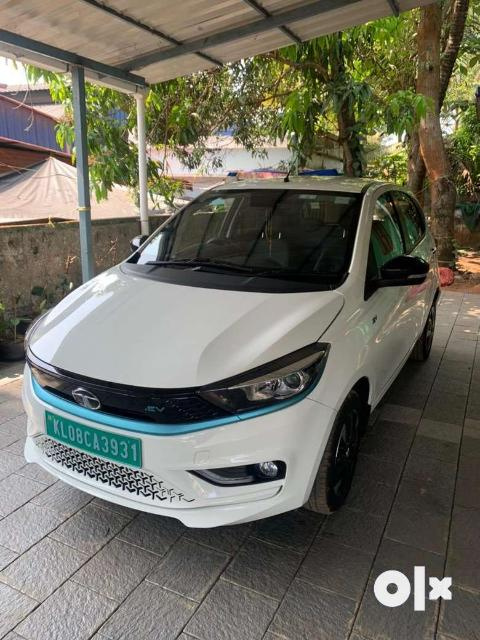Indian_Number_Plate: (45, 412, 141, 468)
